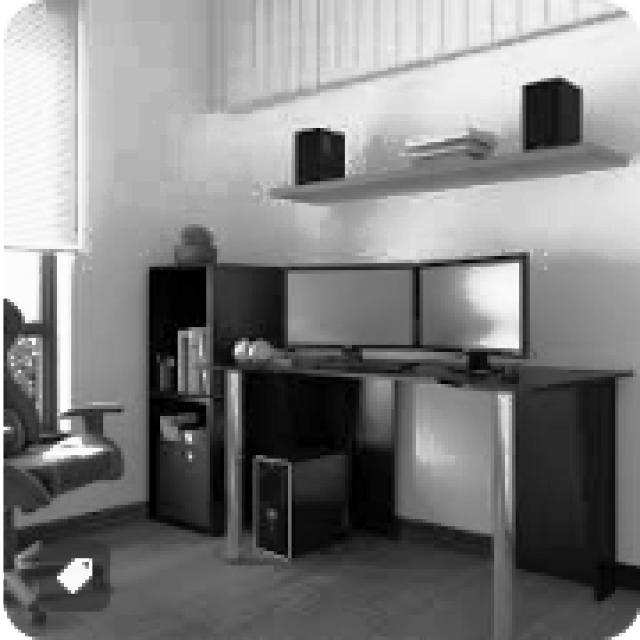book: (0, 295, 124, 622)
table: (195, 352, 633, 636)
